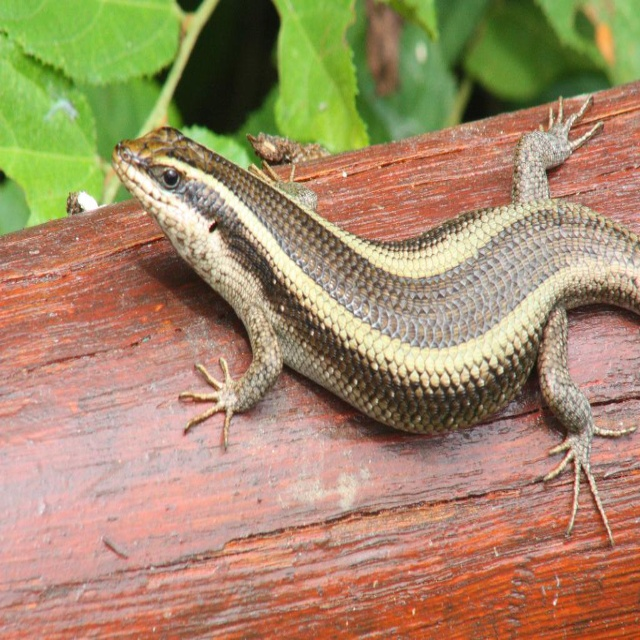Lizard: (103, 65, 631, 545)
